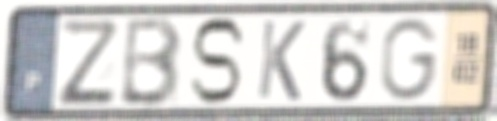6: (320, 16, 372, 104)
B: (117, 14, 185, 110)
G: (379, 15, 443, 104)
K: (254, 17, 308, 104)
S: (186, 15, 248, 107)
Z: (57, 17, 118, 108)
